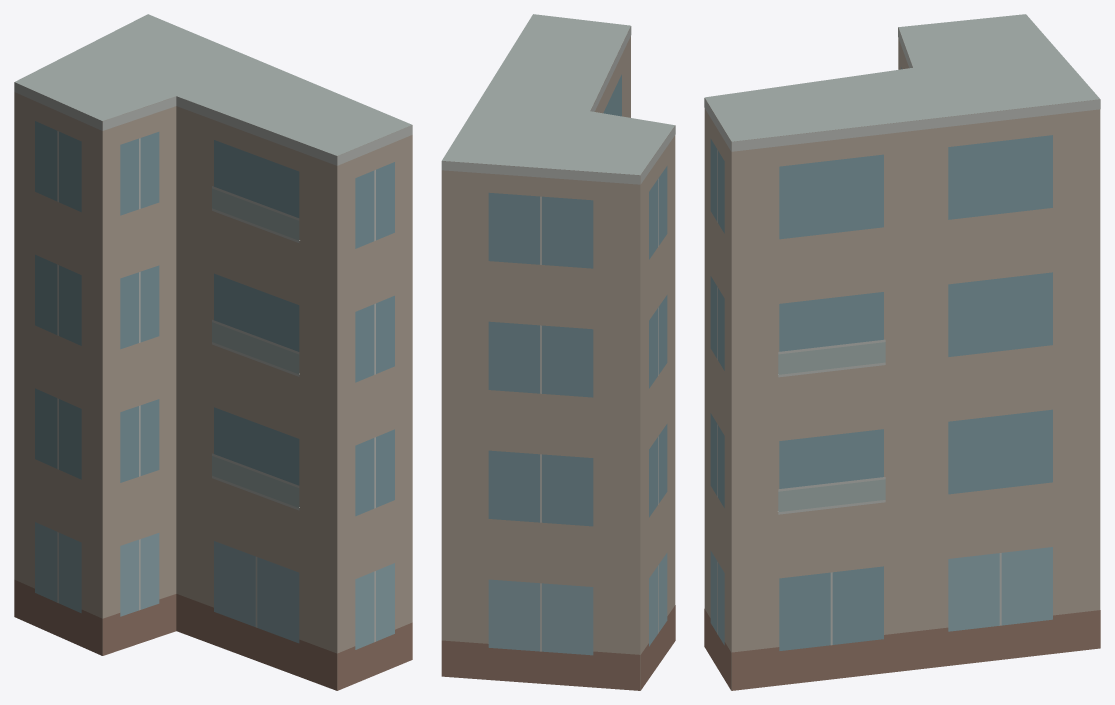
Rendered from survey-upis-32473423.glb.
3 renders of one model, left to right at view 1: azimuth 30°, elevation 25°; view 2: azimuth 150°, elevation 25°; view 3: azimuth 270°, elevation 25°, orthographic. The views are drawn at different scales.
Visible parts, largest first — view 1: survey-upis-32473423.tmp; view 2: survey-upis-32473423.tmp; view 3: survey-upis-32473423.tmp.
Boxes of the visible parts, left/top/right/bottom form: survey-upis-32473423.tmp: left=14, top=14, right=412, bottom=690; survey-upis-32473423.tmp: left=441, top=14, right=675, bottom=690; survey-upis-32473423.tmp: left=704, top=14, right=1100, bottom=690.
Size of the model in its own units: 6.62 by 13.25 by 8.67.
